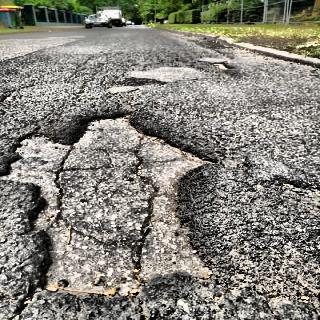pothole: (0, 104, 224, 301)
